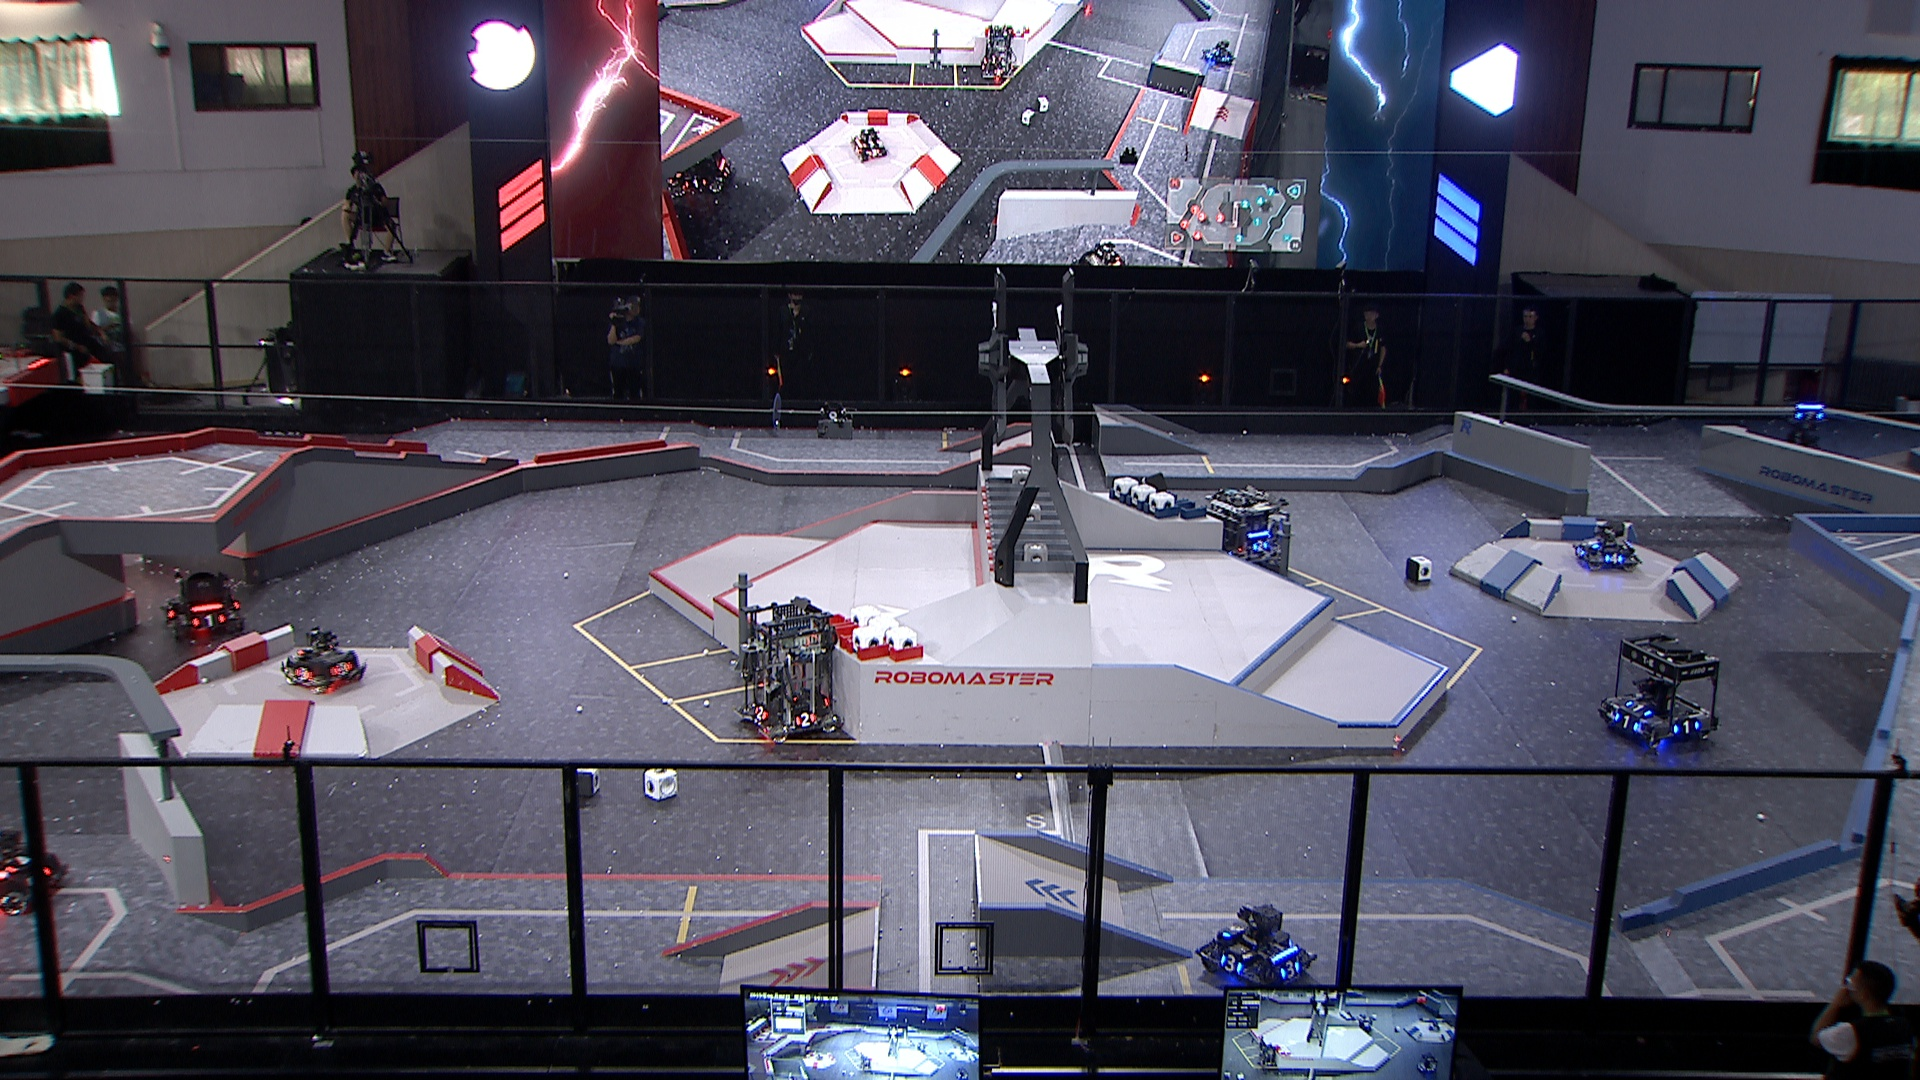armor: (5, 851, 30, 876), (1611, 709, 1638, 731), (193, 612, 224, 626), (1218, 953, 1240, 975), (1626, 698, 1652, 713), (1280, 957, 1300, 978), (328, 659, 352, 676), (794, 711, 818, 728), (289, 665, 314, 680), (1673, 717, 1700, 732), (1221, 920, 1245, 936), (752, 704, 766, 723), (1797, 409, 1822, 419), (1604, 553, 1622, 564), (166, 604, 178, 622), (1251, 538, 1269, 550), (1572, 546, 1586, 559), (1585, 537, 1600, 547)
car: (731, 595, 847, 749), (1594, 632, 1726, 750), (1199, 903, 1315, 994), (1201, 485, 1292, 578), (158, 560, 244, 640), (278, 628, 371, 695), (1571, 514, 1648, 575)
ignore: (661, 153, 732, 200), (977, 22, 1017, 76), (1069, 237, 1125, 266), (849, 123, 887, 161), (1203, 36, 1237, 67), (1253, 1039, 1280, 1073), (1415, 1048, 1437, 1079), (1357, 1014, 1382, 1034), (858, 1054, 873, 1073), (1425, 1017, 1443, 1033), (955, 1067, 971, 1080), (915, 1038, 932, 1050)
watcher: (1783, 392, 1832, 454)
